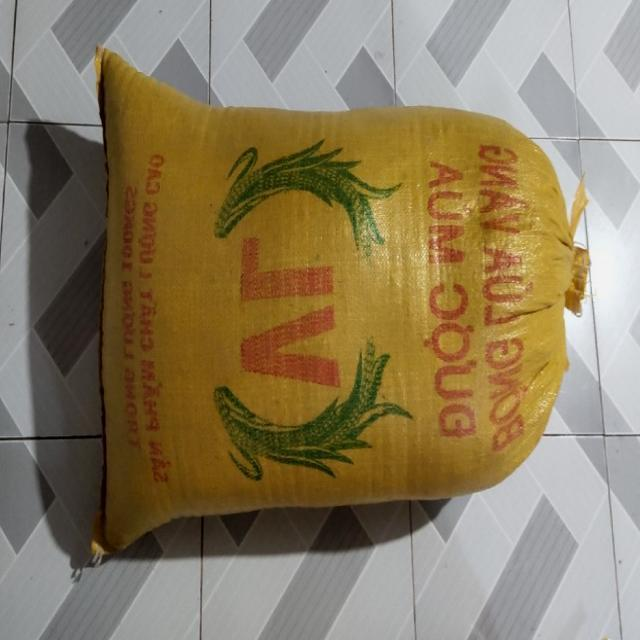gunny_bag: (92, 48, 589, 554)
